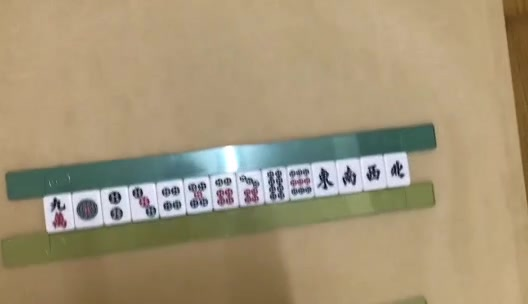1p: (75, 200, 97, 221)
1z: (318, 168, 334, 192)
2p: (109, 191, 123, 221)
2z: (342, 165, 356, 186)
3p: (133, 188, 156, 217)
3z: (366, 164, 380, 181)
4p: (162, 187, 180, 211)
4z: (390, 160, 405, 178)
5p: (189, 182, 208, 208)
6p: (216, 178, 234, 207)
7p: (239, 175, 260, 204)
8p: (268, 170, 285, 201)
9m: (49, 198, 67, 228)
9p: (290, 169, 311, 195)
